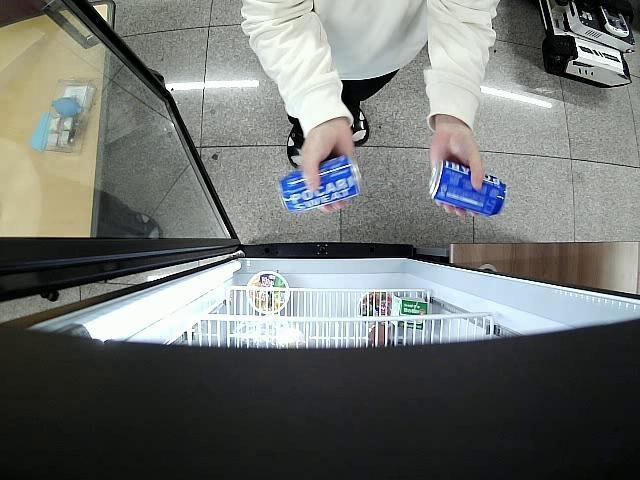13_pocariSweat: (278, 156, 364, 209), (429, 161, 508, 218)
